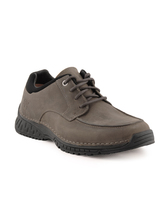shoes: (8, 64, 156, 152)
